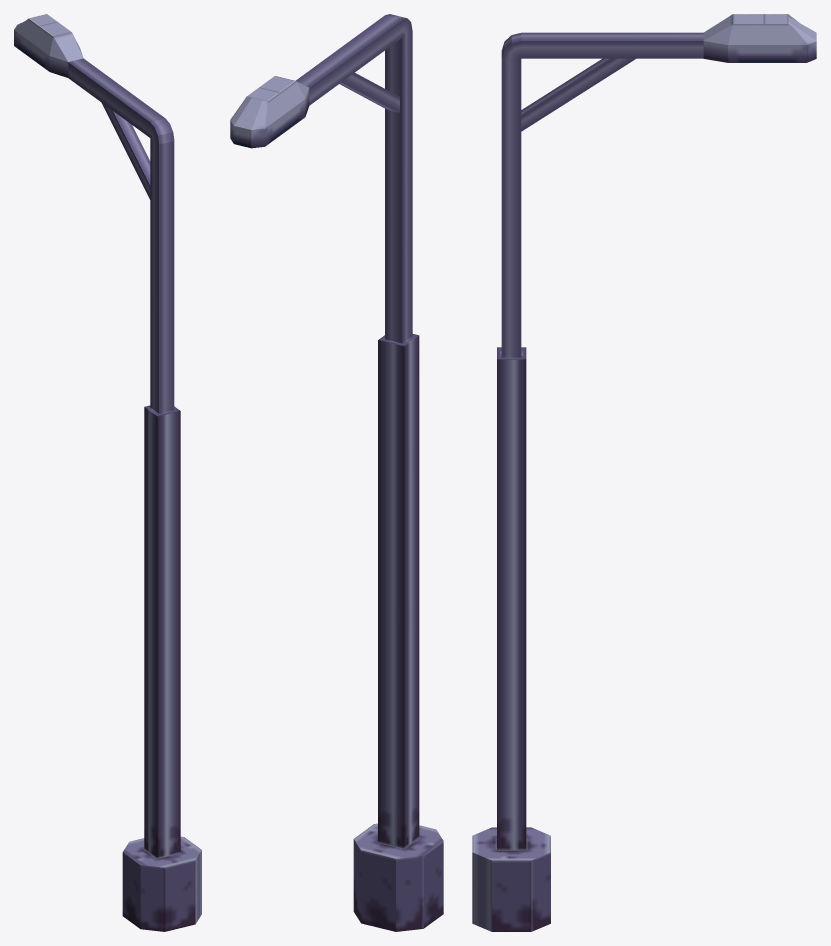
File: TopLeftPost.fbx
3 renders of one model, left to right at view 1: azimuth 30°, elevation 25°; view 2: azimuth 150°, elevation 25°; view 3: azimuth 270°, elevation 25°, orthographic. The views are drawn at different scales.
Parts seen in each view (by area): view 1: Cube.024; view 2: Cube.024; view 3: Cube.024.
Boxes of the visible parts, <box> form: Cube.024: <box>14,14,201,931</box>; Cube.024: <box>230,14,443,931</box>; Cube.024: <box>472,14,816,931</box>.
Bounding box in the file's own units: 50 × 628 × 219.
